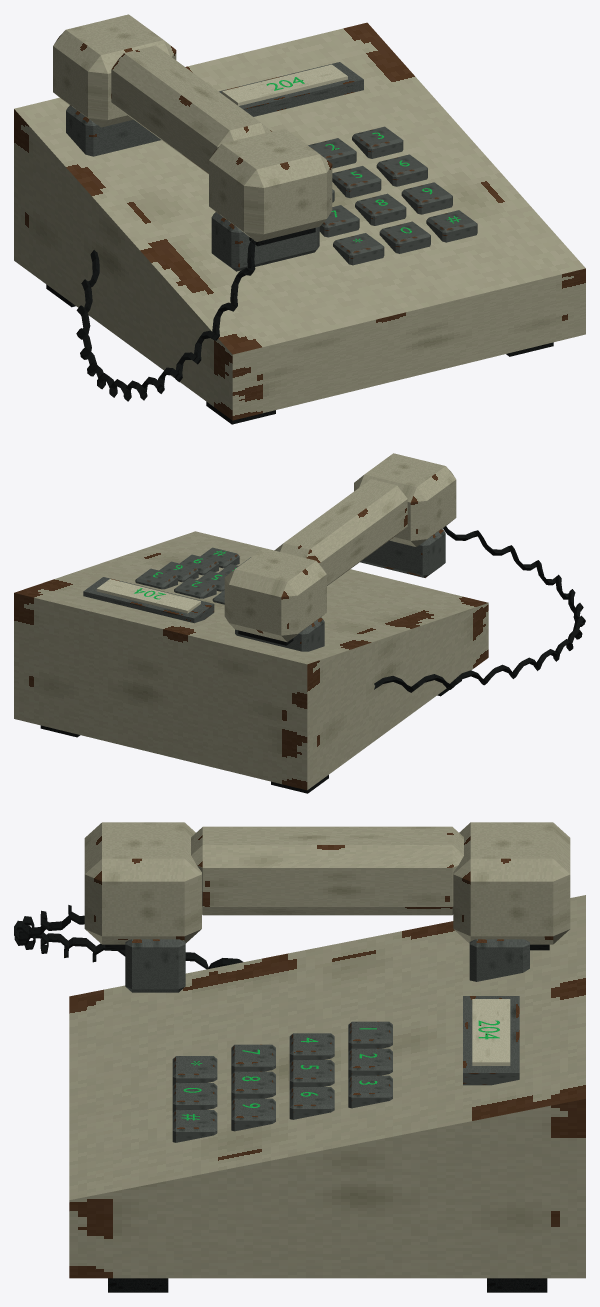
File: telephone.glb
3 views of the same model, one above another, from view 1: azimuth 30°, elevation 25°; view 2: azimuth 150°, elevation 25°; view 3: azimuth 270°, elevation 25° (orthographic). The views are drawn at different scales.
Visible parts, largest first — view 1: 07_Telephone_Mesh.001, Handset_Mesh.001, Optional_Coiled_Cord.001; view 2: 07_Telephone_Mesh.001, Handset_Mesh.001, Optional_Coiled_Cord.001; view 3: 07_Telephone_Mesh.001, Handset_Mesh.001, Optional_Coiled_Cord.001.
Part boxes in pixels (bbox=[...]): 07_Telephone_Mesh.001: bbox=[14, 22, 585, 424]; Handset_Mesh.001: bbox=[53, 14, 332, 246]; Optional_Coiled_Cord.001: bbox=[76, 238, 256, 401]; 07_Telephone_Mesh.001: bbox=[14, 529, 488, 793]; Handset_Mesh.001: bbox=[224, 453, 456, 645]; Optional_Coiled_Cord.001: bbox=[374, 526, 585, 692]; 07_Telephone_Mesh.001: bbox=[69, 895, 585, 1292]; Handset_Mesh.001: bbox=[84, 822, 570, 950]; Optional_Coiled_Cord.001: bbox=[14, 905, 243, 969].
Size of the model in its own units: 0.3688 by 0.1935 by 0.3321.
1 material, 1 textured.
